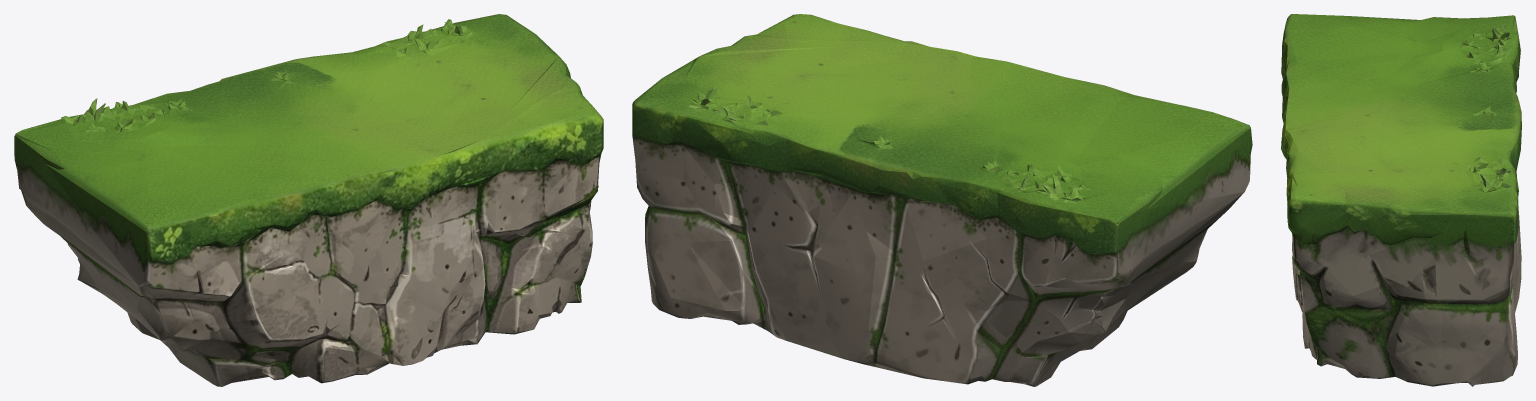
Rendered from RockBlock.fbx.
3 views of the same model, side by side, from view 1: azimuth 30°, elevation 25°; view 2: azimuth 150°, elevation 25°; view 3: azimuth 270°, elevation 25° (orthographic). The views are drawn at different scales.
Visible parts, largest first — view 1: RockBlock; view 2: RockBlock; view 3: RockBlock.
Boxes of the visible parts, box(x1,y1,x2,y2) form: RockBlock: box(14, 14, 603, 386); RockBlock: box(632, 14, 1252, 386); RockBlock: box(1281, 14, 1521, 386).
Size of the model in its own units: 2 by 0.8655 by 1.
1 material, 1 textured.
